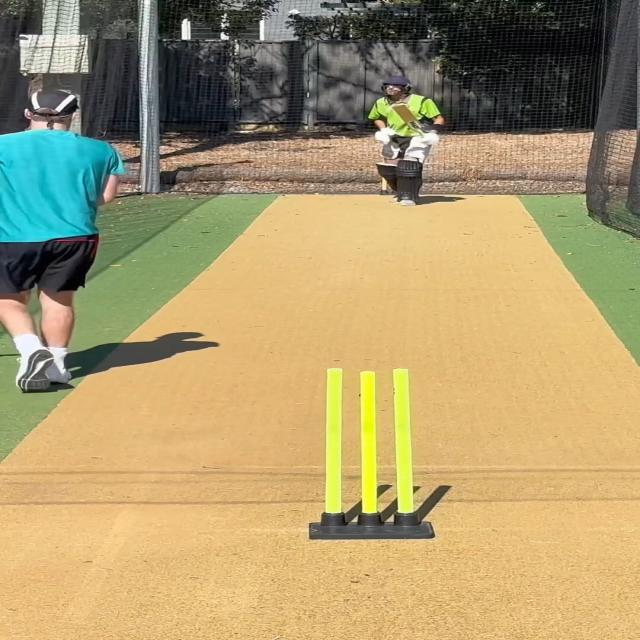stump: (313, 365, 437, 542)
